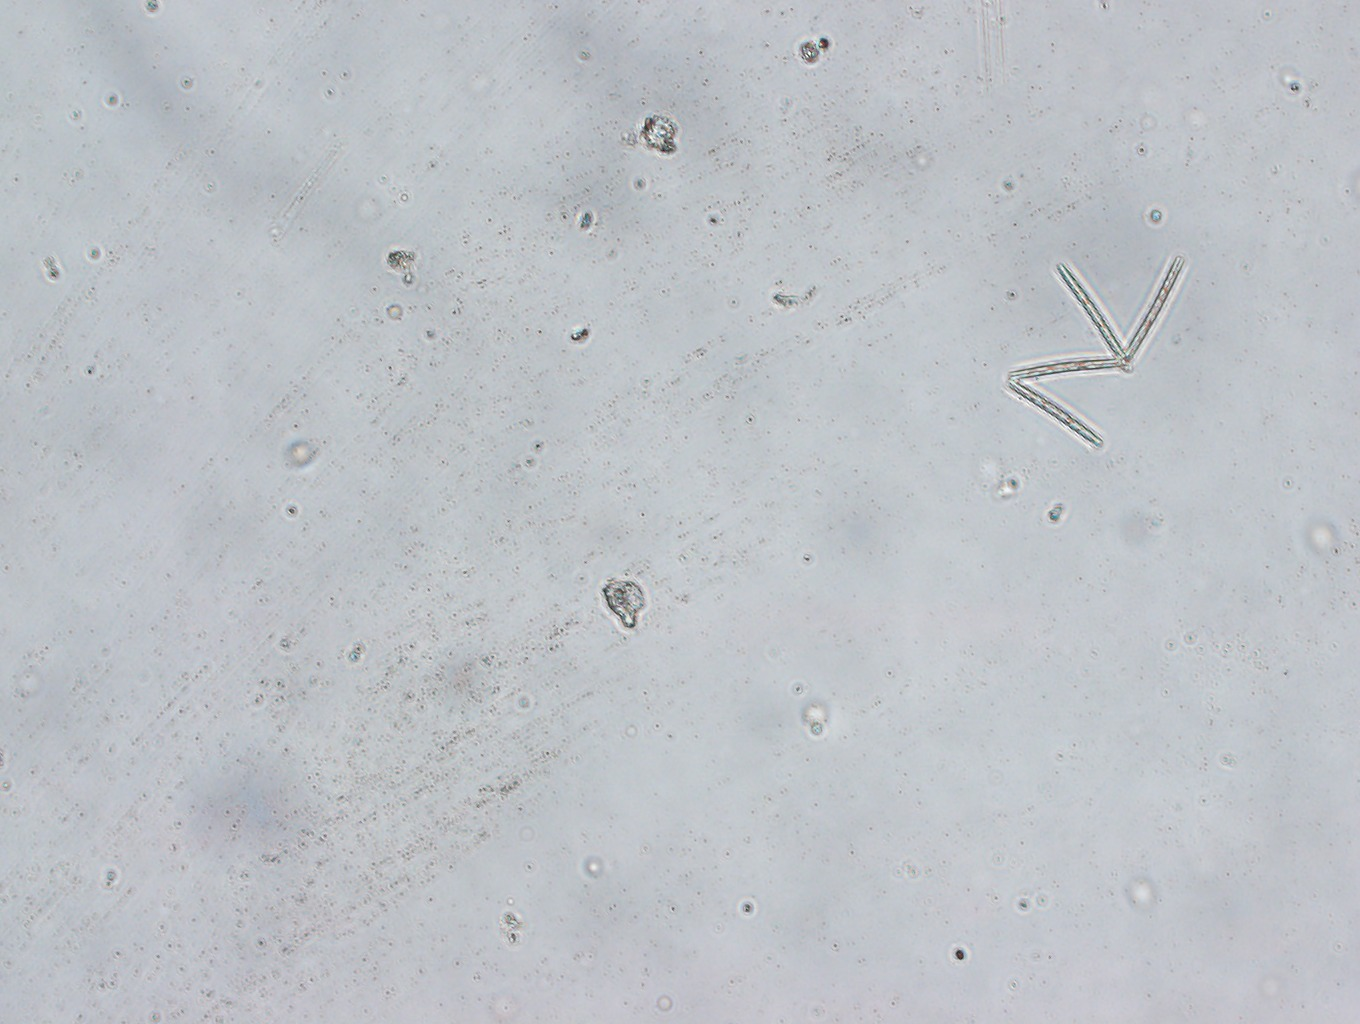thalassionema nitzschioides: (999, 241, 1189, 458)
